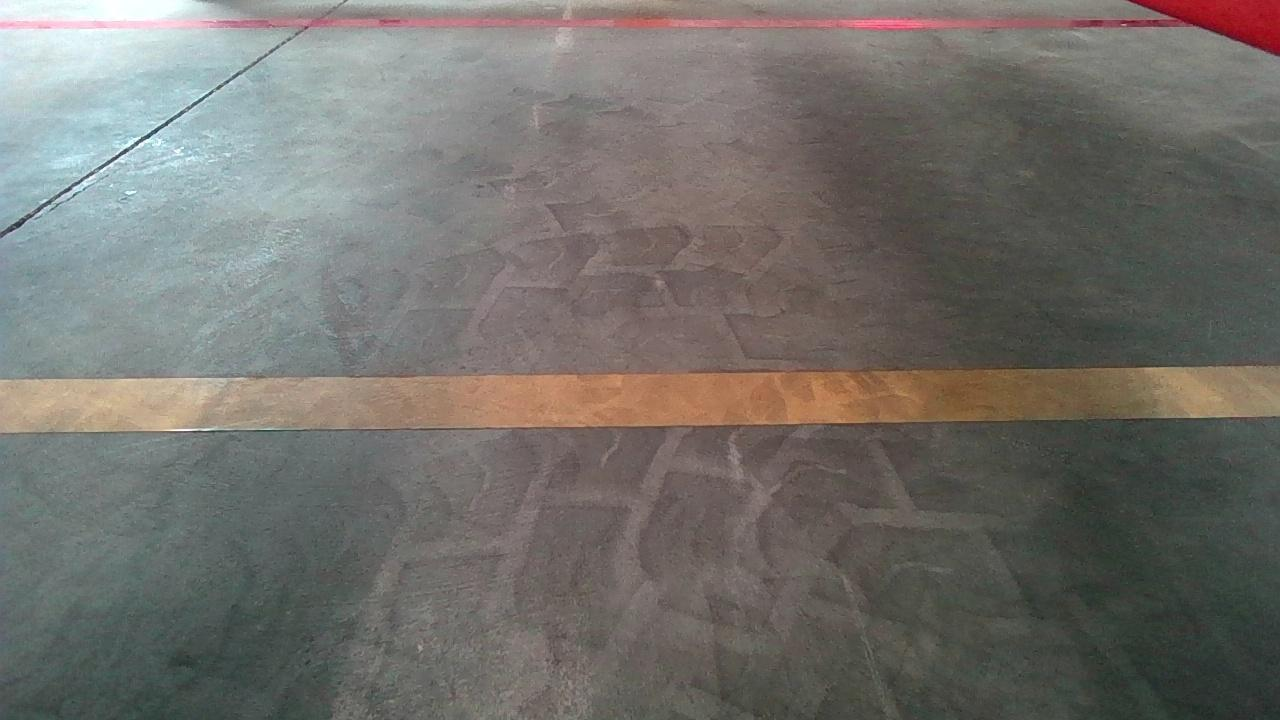red_line: (11, 7, 1152, 37)
yellow_line: (3, 361, 1279, 431)
